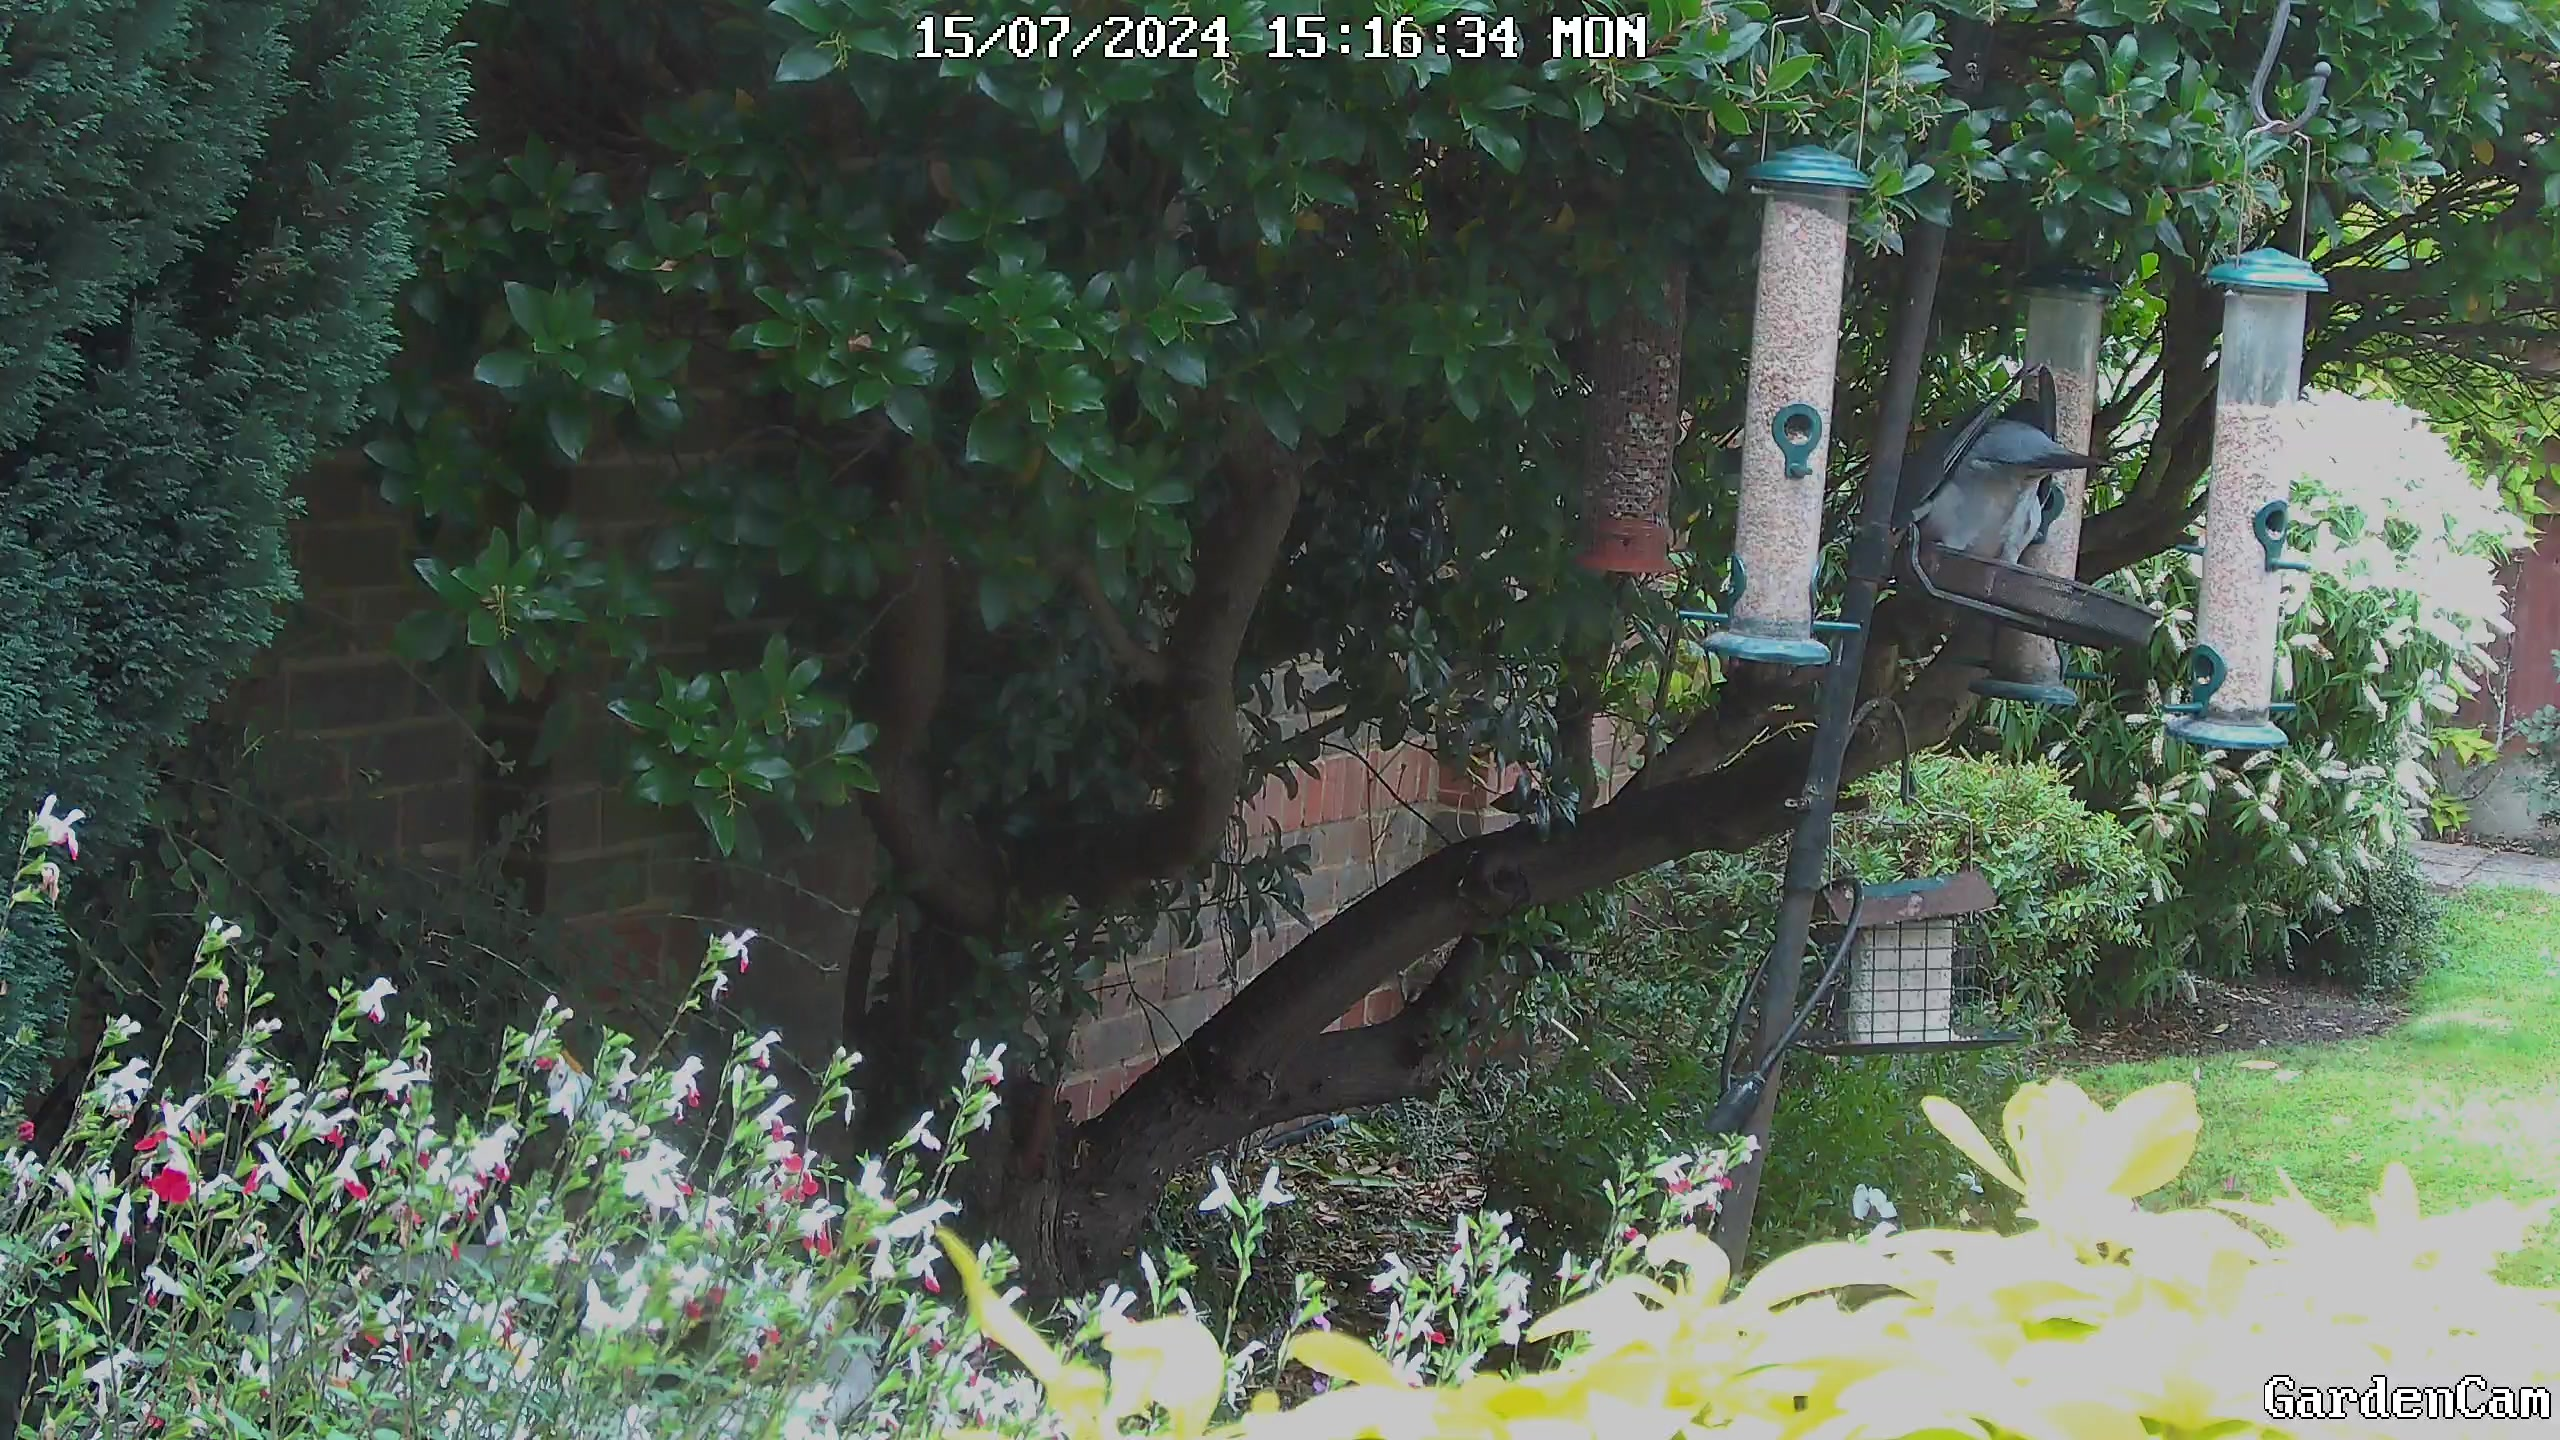Wood_Pigeon: (1873, 396, 2080, 601)
